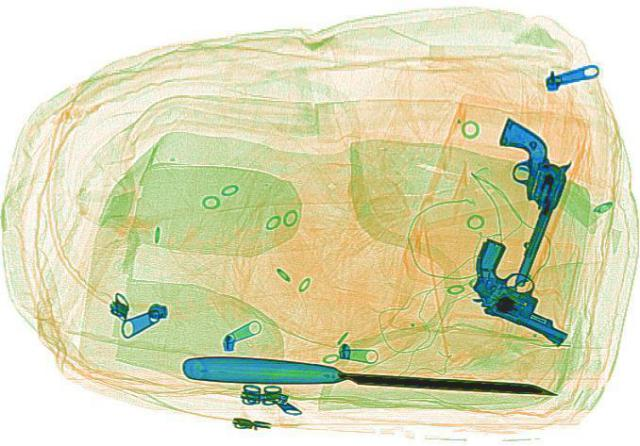Gun: (456, 114, 582, 286), (426, 234, 614, 347)
Knife: (179, 351, 559, 400)
